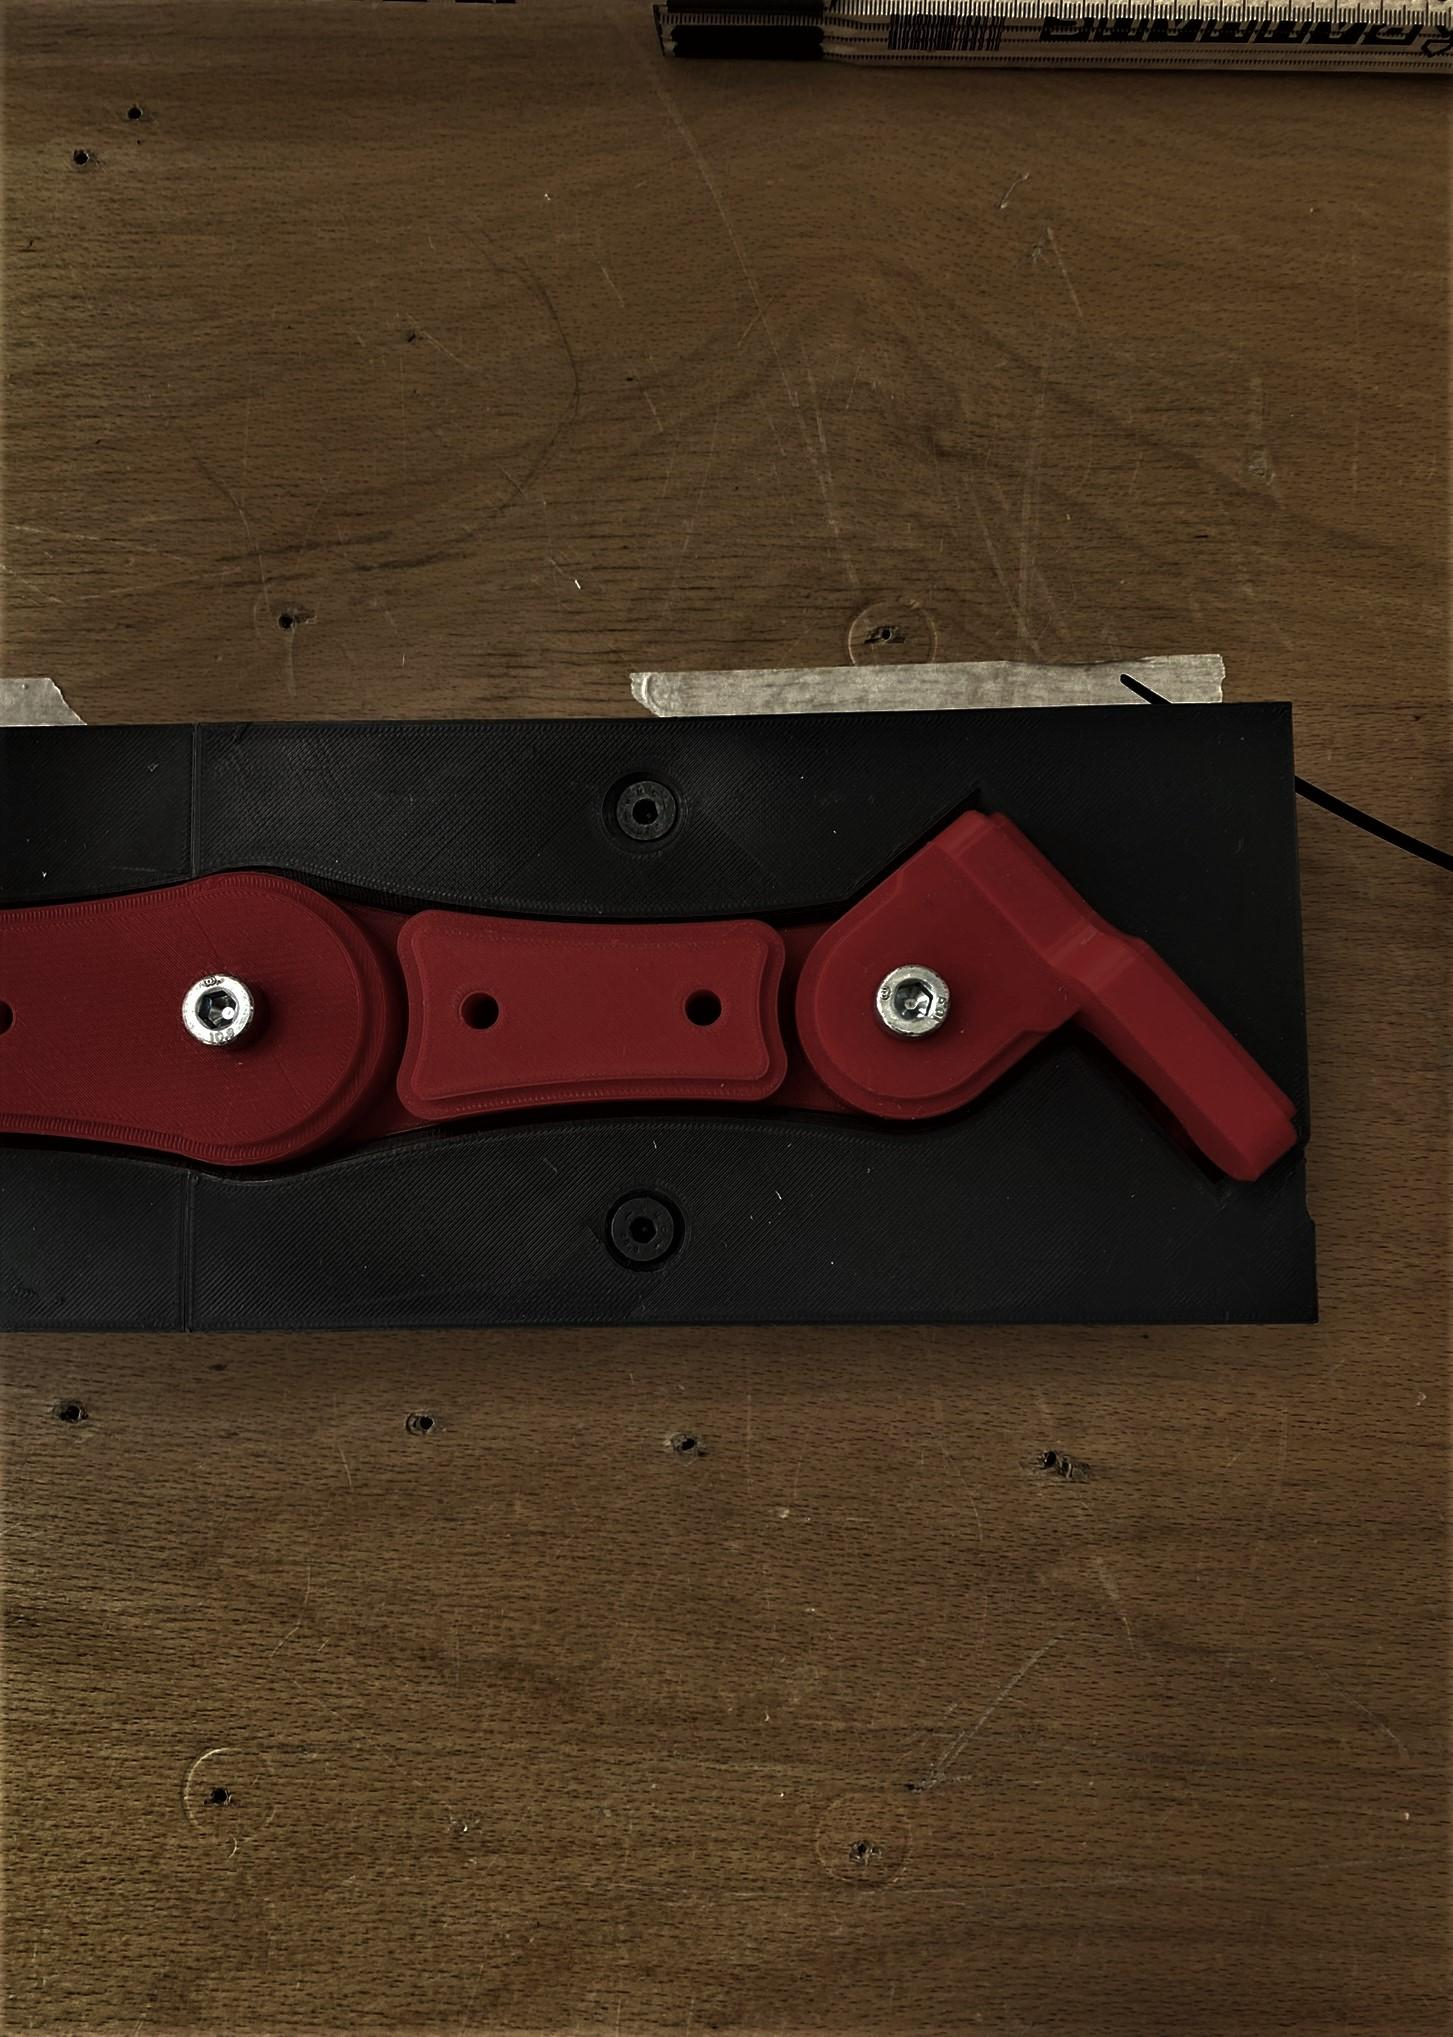H: (876, 967, 955, 1036), (610, 776, 682, 849), (609, 1196, 682, 1264), (184, 974, 252, 1044)
